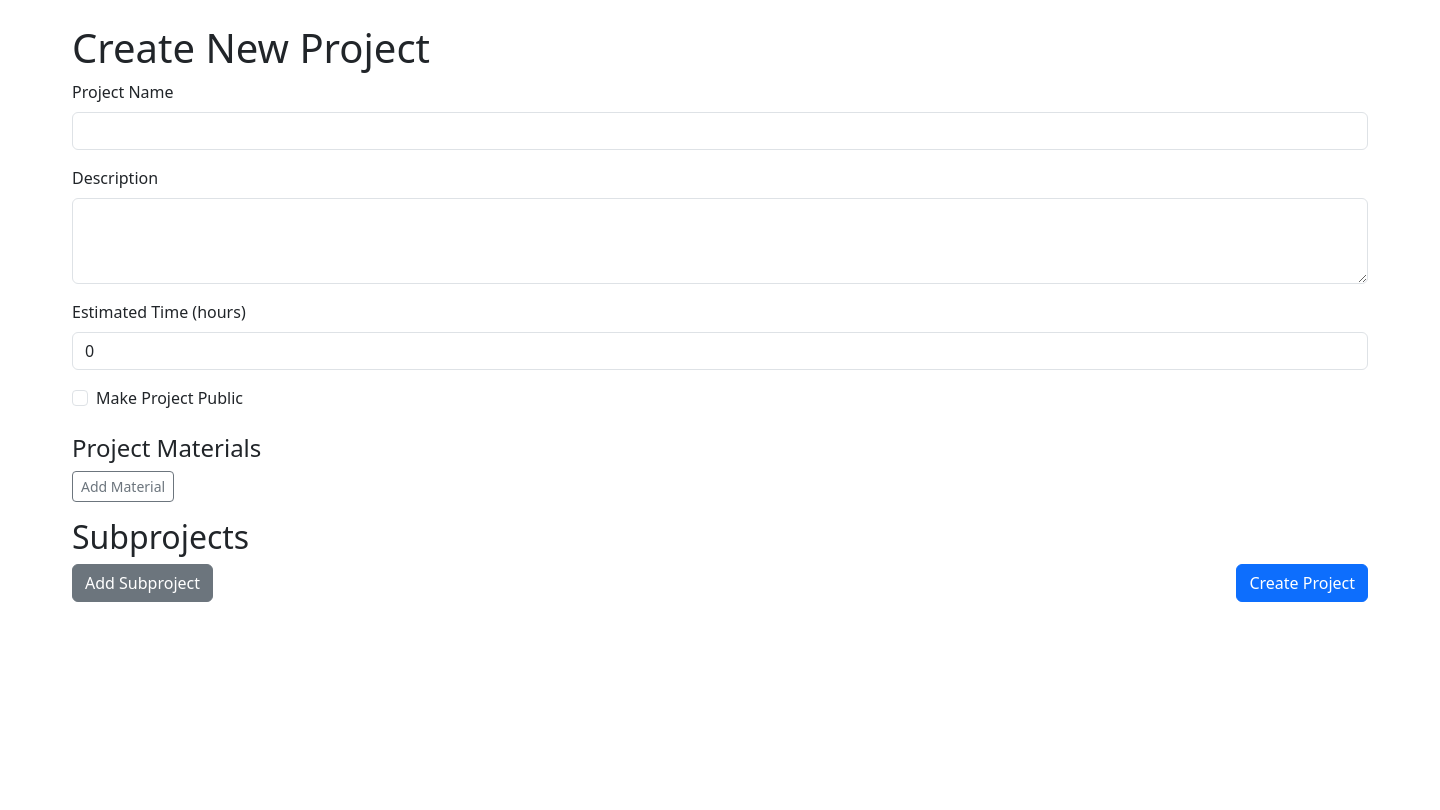
NewProjectPage transactional save flow › shows save failure and preserves form state for retry
In the field: (720,131) [72, 112, 1368, 150], type "Garden Deck"
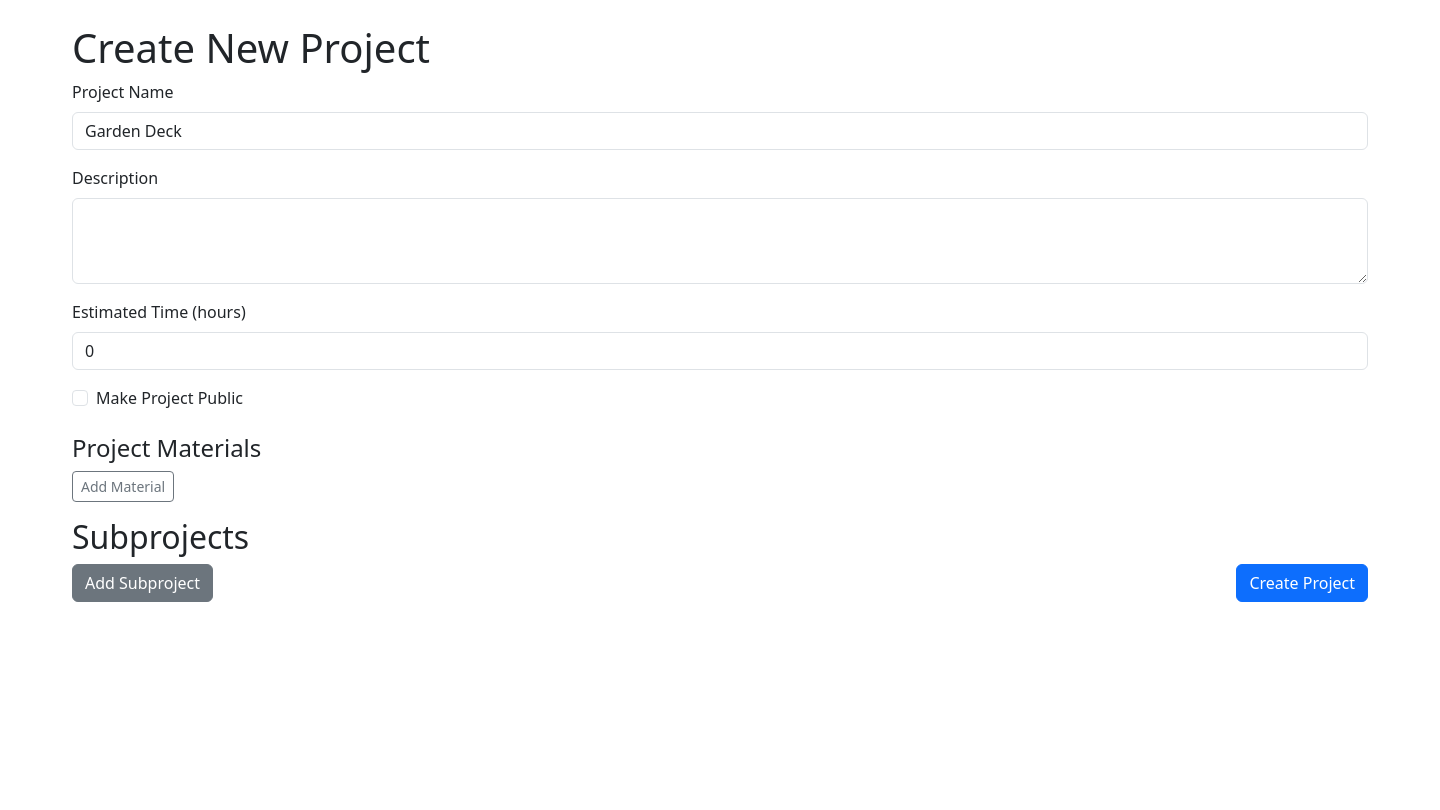
Click the button "Create Project": (1302,583) [1236, 564, 1368, 602]
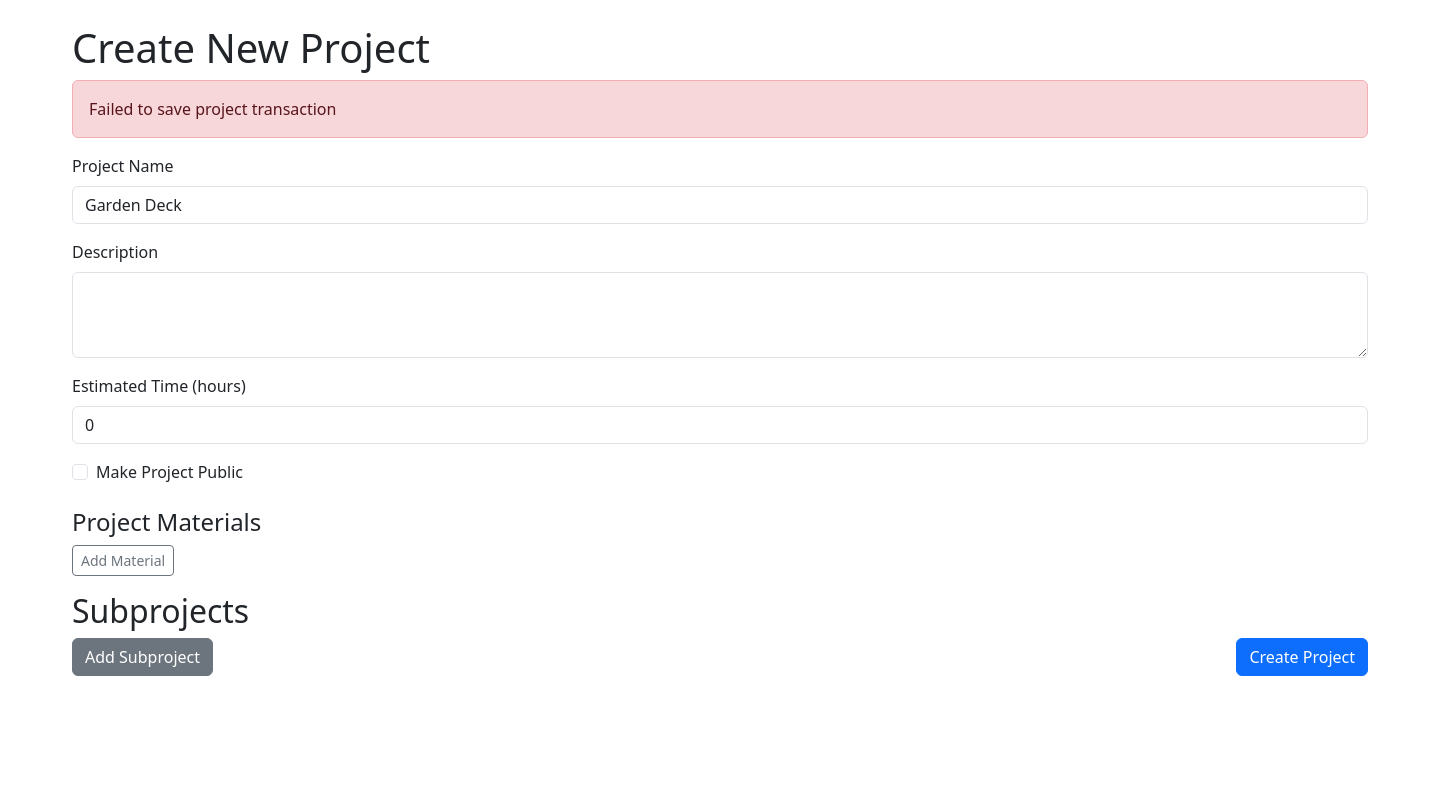
Expected: the text "Failed to save project transaction" is shown, [72, 80, 1368, 138]
